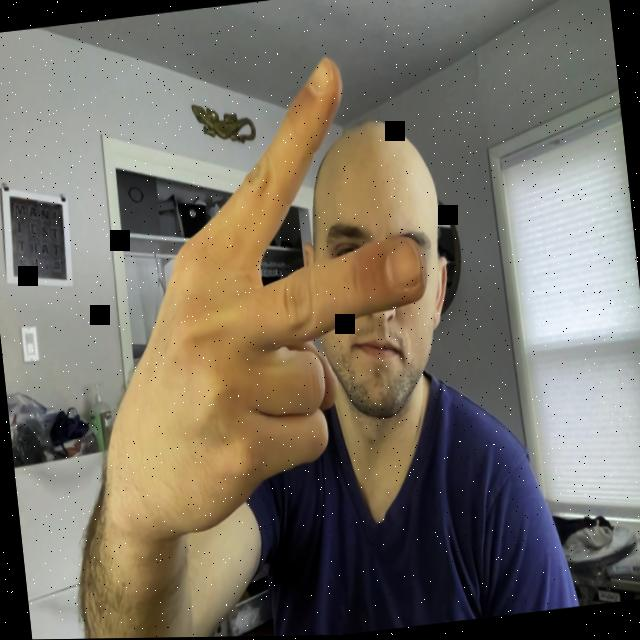Scissors: (59, 42, 456, 557)
